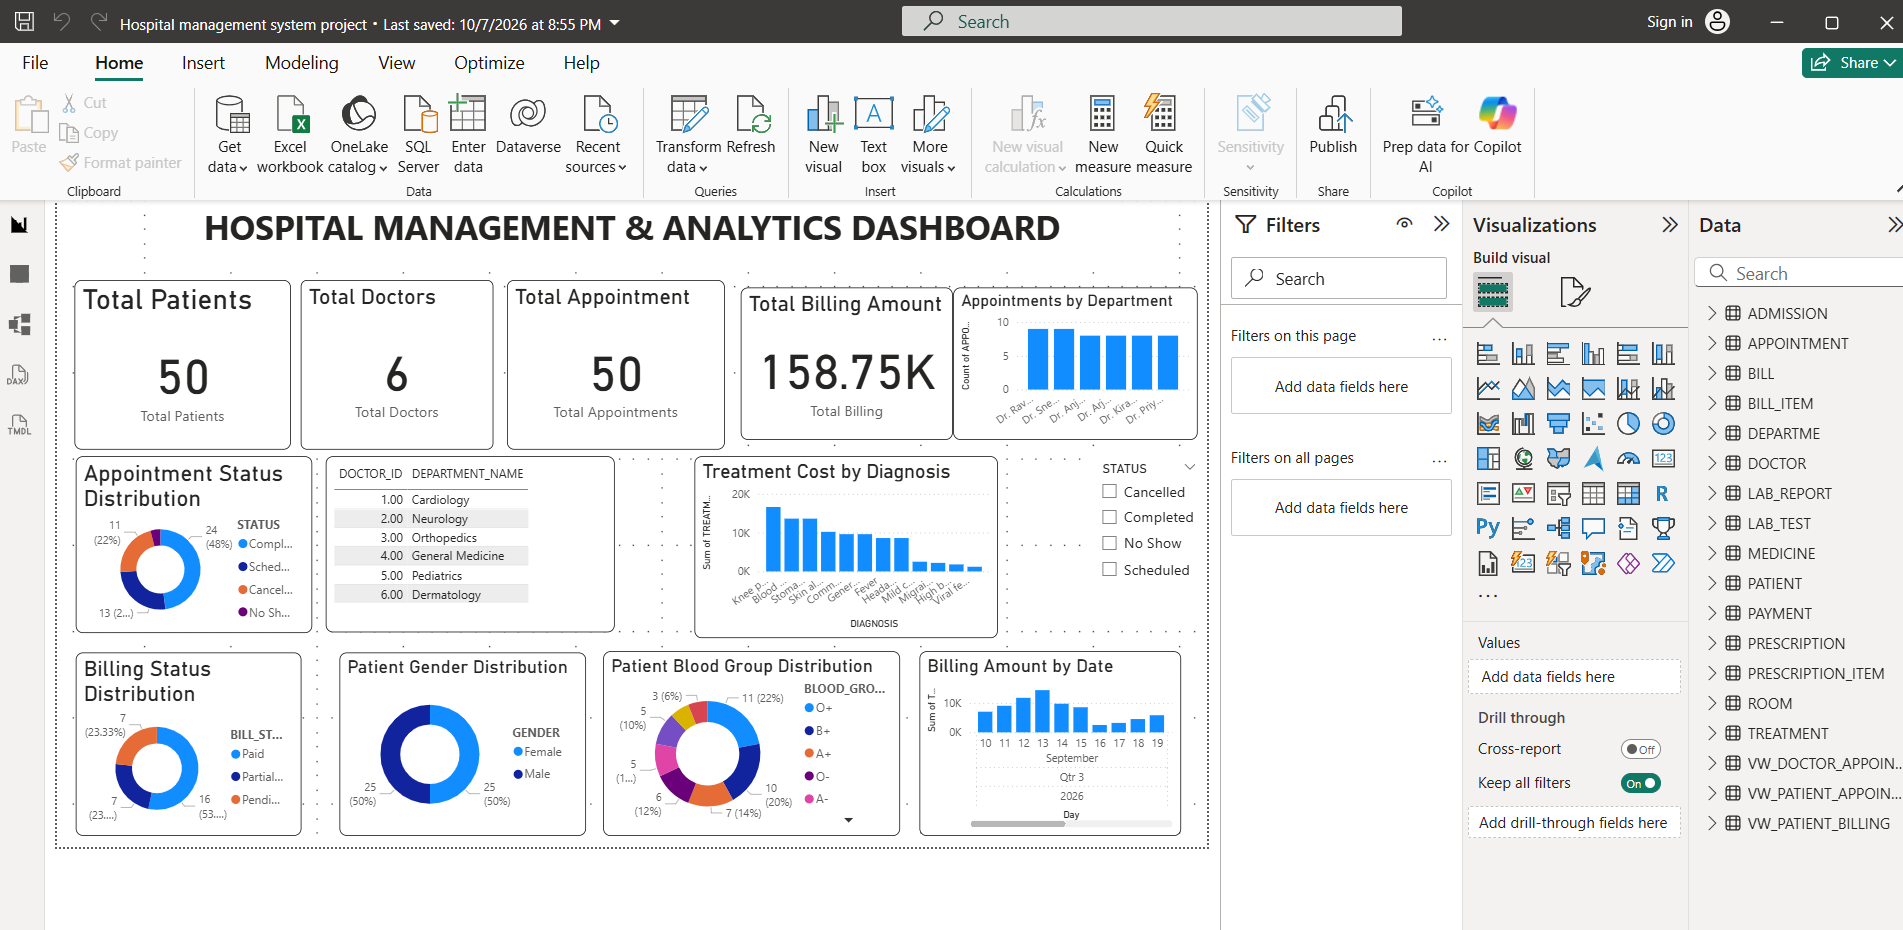

The page's visual inventory and layout, read from the dashboard file:
{"tool":"powerbi","page":{"name":"Page 1","canvas":[1280,720],"ordinal":0},"visuals":[{"type":"card","title":"Total Patients","fields":{"Values":["ADMISSION.Total Patients"]},"box":[19.2,88.6,240.7,189],"z":0},{"type":"card","title":"Total Doctors","fields":{"Values":["ADMISSION.Total Doctors"]},"box":[271.7,88.6,214.1,189],"z":1000},{"type":"card","title":"Total Appointment","fields":{"Values":["ADMISSION.Total Appointments"]},"box":[500.6,88.6,242.2,189],"z":2000},{"type":"card","title":"Total  Billing Amount","fields":{"Values":["ADMISSION.Total Billing"]},"box":[760.5,97.5,236.3,169.8],"z":3000},{"type":"donutChart","title":"Appointment Status Distribution","fields":{"Y":["CountNonNull(APPOINTMENT.APPOINTMENT_ID)"],"Category":["APPOINTMENT.STATUS"]},"box":[20.7,285,262.9,196.4],"z":4000},{"type":"tableEx","fields":{"Values":["DOCTOR.DOCTOR_ID","DEPARTME.DEPARTMENT_NAME"]},"box":[299.6,285.1,321.5,196.4],"z":5000},{"type":"clusteredColumnChart","title":"Appointments by Department","fields":{"Category":["VW_PATIENT_APPOINTMENTS.DOCTOR_NAME"],"Y":["CountNonNull(VW_PATIENT_APPOINTMENTS.APPOINTMENT_ID)"]},"box":[998.3,97.5,271.7,169.8],"z":7000},{"type":"donutChart","title":"Billing Status Distribution","fields":{"Category":["BILL.BILL_STATUS"],"Y":["CountNonNull(BILL.BILL_ID)"]},"box":[20.7,503.6,251,203.8],"z":8000},{"type":"donutChart","title":"Patient Gender Distribution","fields":{"Category":["PATIENT.GENDER"],"Y":["CountNonNull(PATIENT.PATIENT_ID)"]},"box":[314.5,503.6,274.7,203.8],"z":9000},{"type":"donutChart","title":"Patient Blood Group Distribution","fields":{"Category":["PATIENT.BLOOD_GROUP"],"Y":["CountNonNull(PATIENT.PATIENT_ID)"]},"box":[608.4,502.1,330.8,205.3],"z":10000},{"type":"clusteredColumnChart","title":"Treatment Cost by Diagnosis","fields":{"Category":["TREATMENT.DIAGNOSIS"],"Y":["Sum(TREATMENT.TREATMENT_COST)"]},"box":[709.8,285.1,337.5,202.2],"z":11000},{"type":"clusteredColumnChart","title":"Billing Amount by Date","fields":{"Category":["BILL.BILL_DATE.Variation.Date Hierarchy.Year","BILL.BILL_DATE.Variation.Date Hierarchy.Quarter","BILL.BILL_DATE.Variation.Date Hierarchy.Month","BILL.BILL_DATE.Variation.Date Hierarchy.Day"],"Y":["Sum(BILL.TOTAL_AMOUNT)"]},"box":[959.9,502.1,290.9,205.3],"z":12000},{"type":"textbox","box":[100.4,0,1079.5,75.3],"z":13000},{"type":"slicer","fields":{"Values":["APPOINTMENT.STATUS"]},"box":[1150.6,285.2,129.4,189.2],"z":14000}]}

Visuals, with their boxes on the page's 1280x720 design canvas (x1, y1, x2, y2). These are canvas units, not pixel positions in the 1903x930 screenshot, which may show the page scaled, cropped or inside an application window:
"Total Patients" card: <region>19, 89, 260, 278</region>
"Total Doctors" card: <region>272, 89, 486, 278</region>
"Total Appointment" card: <region>501, 89, 743, 278</region>
"Total  Billing Amount" card: <region>760, 98, 997, 267</region>
"Appointment Status Distribution" donutChart: <region>21, 285, 284, 481</region>
tableEx - DOCTOR.DOCTOR_ID x DEPARTME.DEPARTMENT_NAME: <region>300, 285, 621, 482</region>
"Appointments by Department" clusteredColumnChart: <region>998, 98, 1270, 267</region>
"Billing Status Distribution" donutChart: <region>21, 504, 272, 707</region>
"Patient Gender Distribution" donutChart: <region>314, 504, 589, 707</region>
"Patient Blood Group Distribution" donutChart: <region>608, 502, 939, 707</region>
"Treatment Cost by Diagnosis" clusteredColumnChart: <region>710, 285, 1047, 487</region>
"Billing Amount by Date" clusteredColumnChart: <region>960, 502, 1251, 707</region>
textbox: <region>100, 0, 1180, 75</region>
slicer - APPOINTMENT.STATUS: <region>1151, 285, 1280, 474</region>
